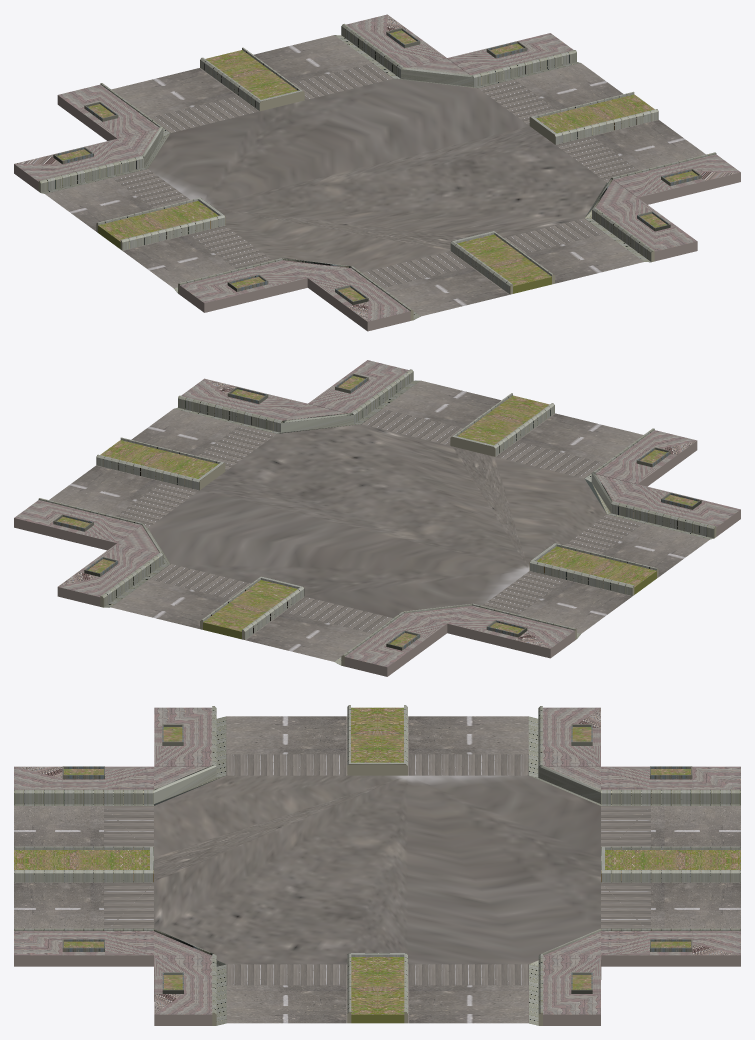
File: square_New_1f.fbx
The picture shows the model from 3 angles, top to bottom: view 1: azimuth 30°, elevation 25°; view 2: azimuth 150°, elevation 25°; view 3: azimuth 270°, elevation 25°; orthographic projection. The views are drawn at different scales.
Parts seen in each view (by area): view 1: Plane; view 2: Plane; view 3: Plane.
Part boxes in pixels (x1,y1,x2,y2): Plane: (14,14,740,331); Plane: (14,360,740,676); Plane: (14,705,740,1025).
Size of the model in its own units: 2398 by 2396 by 54.49.
